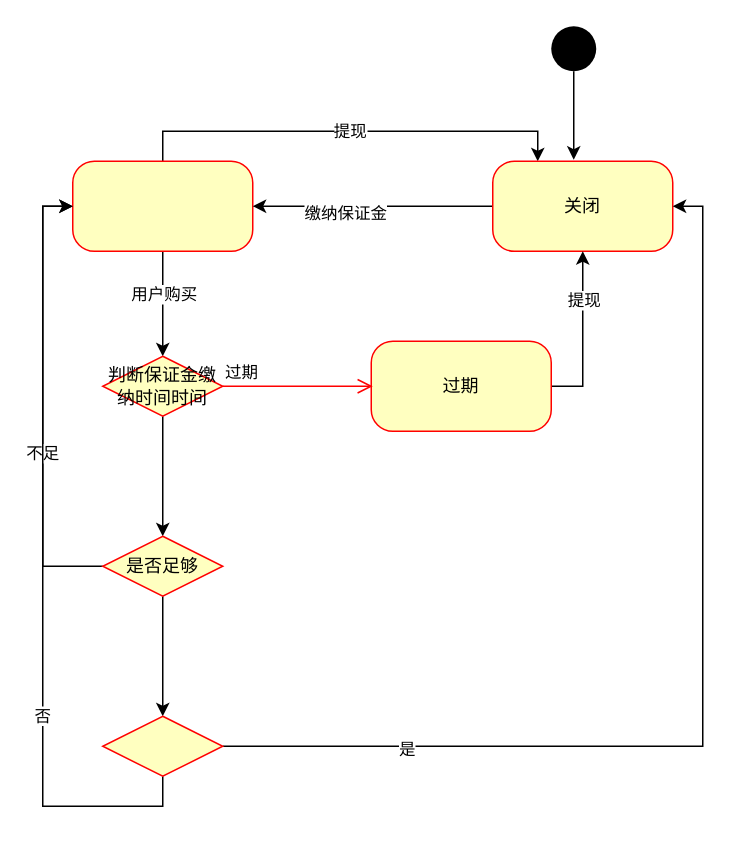
Image size: 741x845. Some labels were removed from this diagram. The centre of each missing label's shape, as x and y in pixels:
"是否用完" belongs at pixel 162 745.
"激活" belongs at pixel 162 205.
